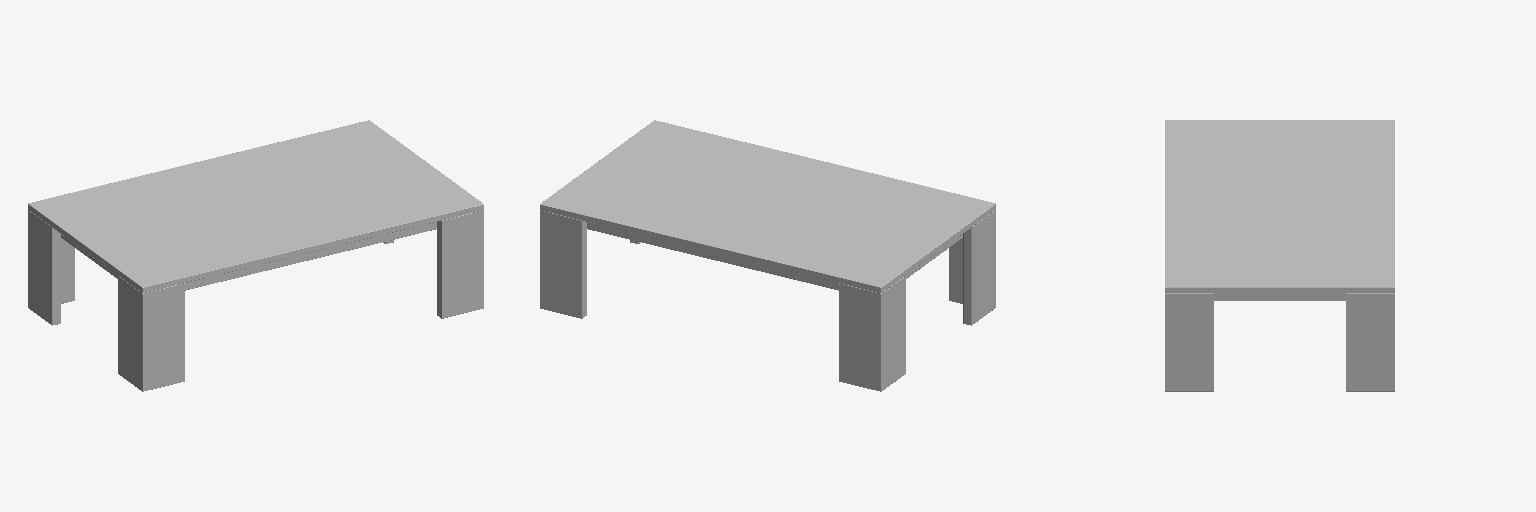
Rendered from chaji.obj.
The picture shows the model from 3 angles: view 1: azimuth 30°, elevation 25°; view 2: azimuth 150°, elevation 25°; view 3: azimuth 270°, elevation 25°; orthographic projection.
Parts seen in each view (by area): view 1: archmodels59_table_2, archmodels59_table_1, archmodels59_table_3; view 2: archmodels59_table_2, archmodels59_table_1, archmodels59_table_3; view 3: archmodels59_table_2, archmodels59_table_1, archmodels59_table_3.
Boxes of the visible parts, <box> form: archmodels59_table_2: <box>28,120,483,292</box>; archmodels59_table_1: <box>28,210,483,391</box>; archmodels59_table_3: <box>61,222,436,290</box>; archmodels59_table_2: <box>540,120,995,292</box>; archmodels59_table_1: <box>540,210,995,391</box>; archmodels59_table_3: <box>587,222,962,290</box>; archmodels59_table_2: <box>1165,120,1394,292</box>; archmodels59_table_1: <box>1165,293,1394,391</box>; archmodels59_table_3: <box>1214,293,1345,300</box>.
Bounding box in the file's own units: 120 × 35 × 70.